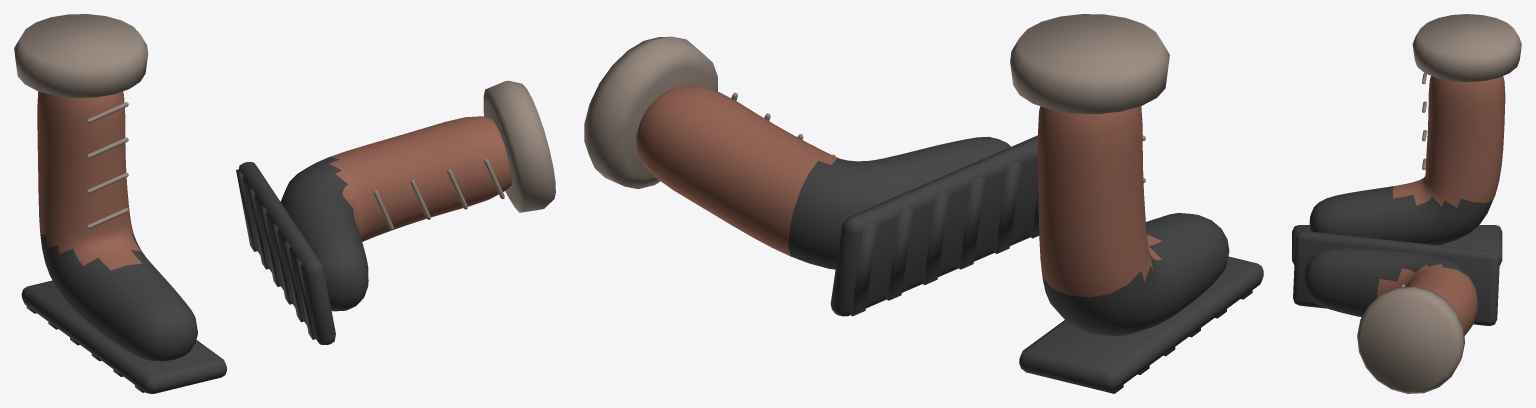
The model's file is boots.glb.
The picture shows the model from 3 angles, left to right: view 1: azimuth 30°, elevation 25°; view 2: azimuth 150°, elevation 25°; view 3: azimuth 270°, elevation 25°; orthographic projection. The views are drawn at different scales.
Parts seen in each view (by area): view 1: boots; view 2: boots; view 3: boots.
Part boxes in pixels (x1=…): boots: x1=14, y1=14, x2=555, y2=393; boots: x1=584, y1=14, x2=1263, y2=393; boots: x1=1292, y1=14, x2=1521, y2=393.
Size of the model in its own units: 0.6581 by 0.347 by 0.328.
